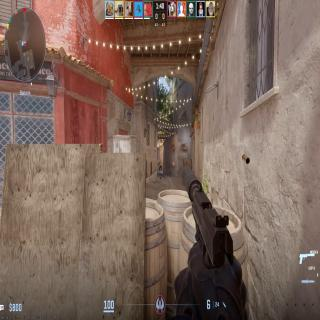T-Body: (158, 162, 162, 170)
T-Head: (159, 162, 160, 164)
